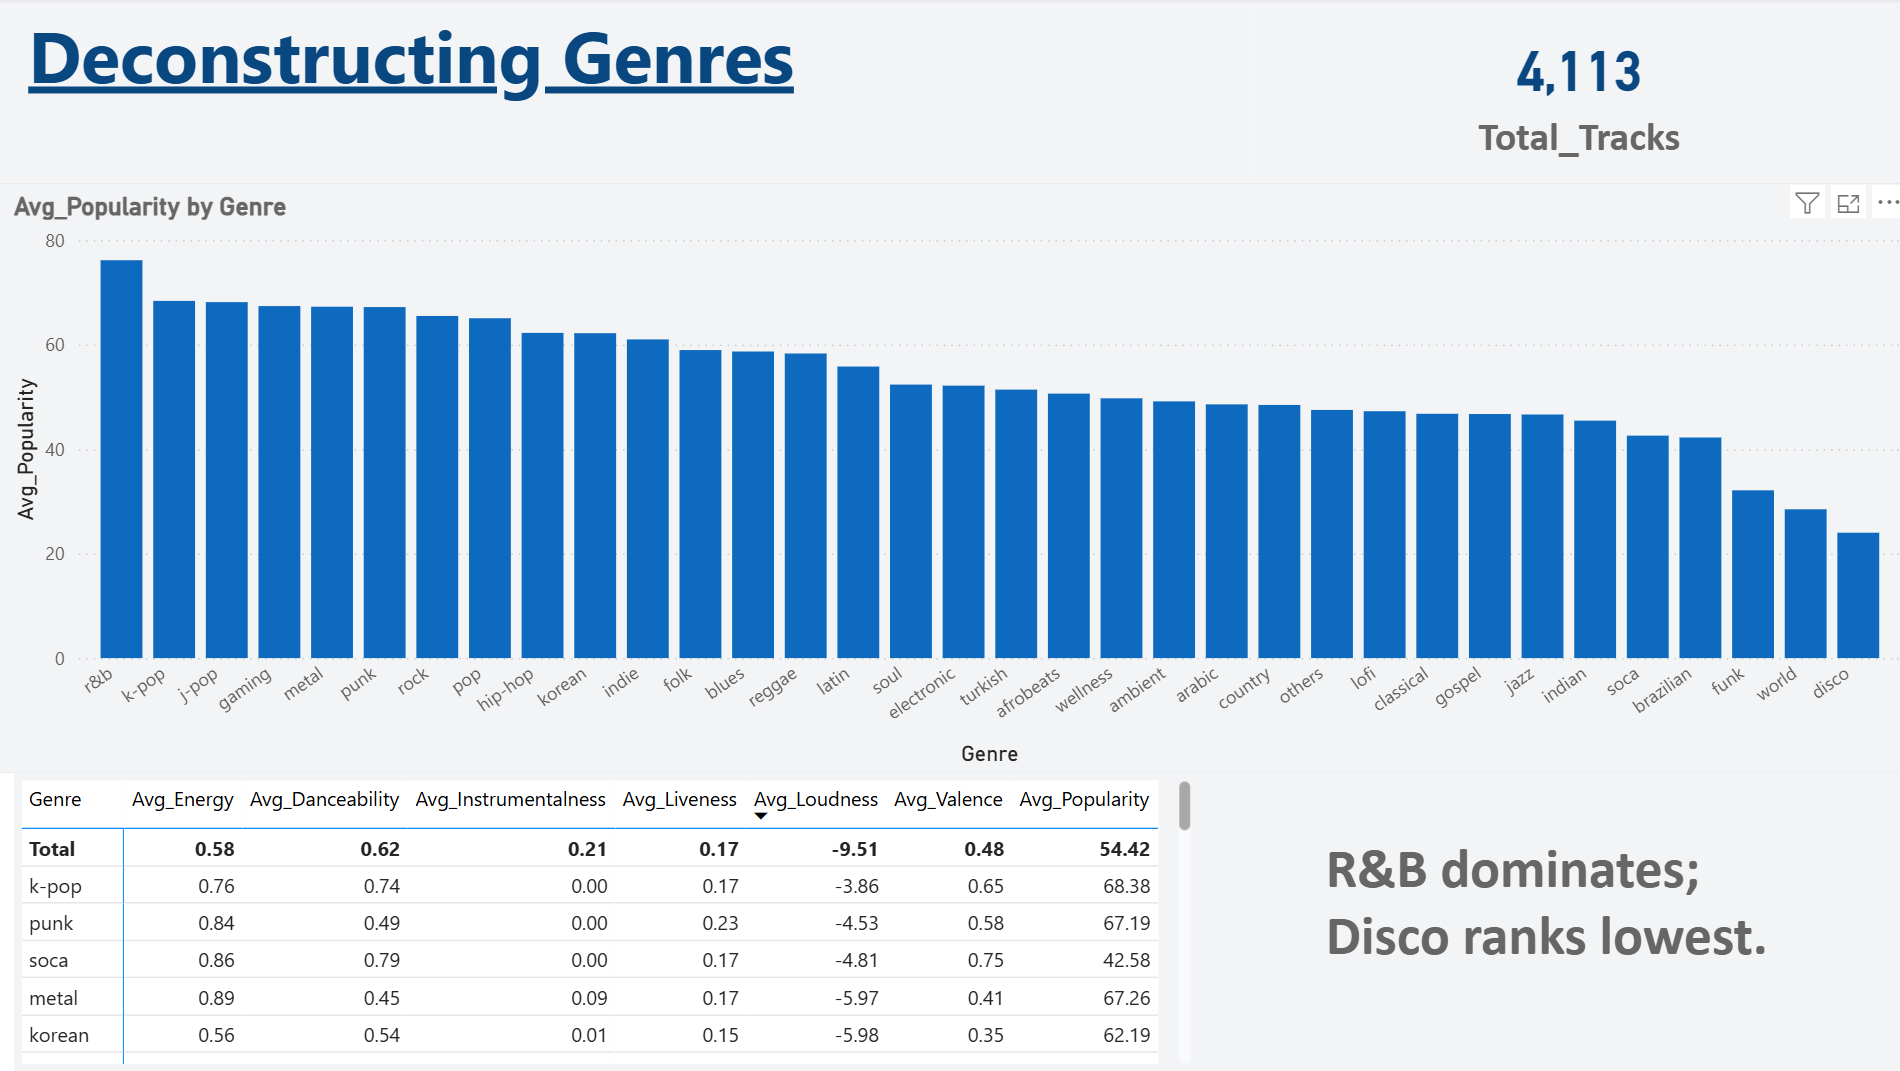

Layout of this report page (visuals, bound fields, positions):
{"tool":"powerbi","page":{"name":"Deconstructing Genres","canvas":[1280,720],"ordinal":2},"visuals":[{"type":"clusteredColumnChart","fields":{"Y":["_Measures.Avg_Popularity"],"Category":["Spotify_data.Genre"]},"box":[0,124.4,1280,395.6],"z":0},{"type":"pivotTable","fields":{"Rows":["Spotify_data.Genre"],"Values":["_Measures.Avg_Energy","_Measures.Avg_Danceability","_Measures.Avg_Instrumentalness","_Measures.Avg_Liveness","_Measures.Avg_Loudness","_Measures.Avg_Valence","_Measures.Avg_Popularity"]},"box":[10,520,794.4,200],"z":1000},{"type":"card","fields":{"Values":["_Measures.Total_Tracks"]},"box":[838.9,0,441.1,124.4],"z":2000},{"type":"textbox","box":[0,0,838.9,124.4],"z":3000},{"type":"textbox","box":[804.4,520,475.6,200],"z":4000}]}

Visuals, with their boxes in screenshot pixels (x1, y1, x2, y2), scaled from the page's 1280x720 canvas onto the 1900x1071 screenshot:
clusteredColumnChart - _Measures.Avg_Popularity x Spotify_data.Genre: BBox(0, 185, 1899, 774)
pivotTable - Spotify_data.Genre x _Measures.Avg_Energy: BBox(15, 774, 1194, 1070)
card - _Measures.Total_Tracks: BBox(1245, 0, 1899, 185)
textbox: BBox(0, 0, 1245, 185)
textbox: BBox(1194, 774, 1899, 1070)
